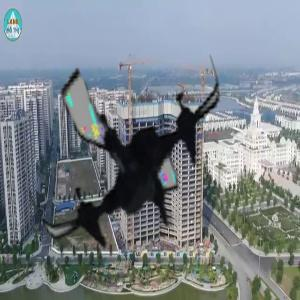drone: (21, 47, 239, 265)
